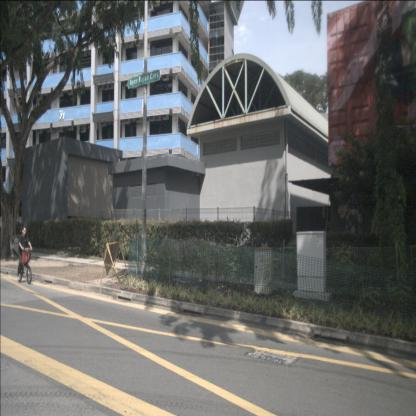vehicle-bicycle: (17, 226, 33, 284)
